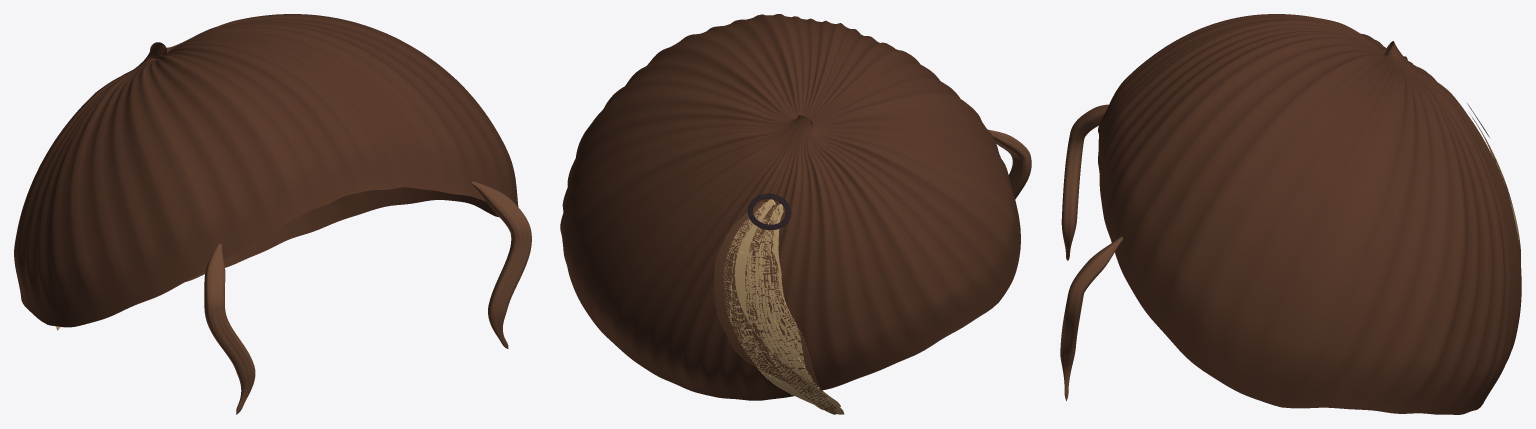
The model's file is Highlights-75b657a3e1ce251-hair.glb.
3 renders of one model, left to right at view 1: azimuth 30°, elevation 25°; view 2: azimuth 150°, elevation 25°; view 3: azimuth 270°, elevation 25°, orthographic. The views are drawn at different scales.
Visible parts, largest first — view 1: 226 hair / Hair / crisp pulled roots220, 226 hair / Hair / sculpted front locks222; view 2: 226 hair / Hair / crisp pulled roots220, 226 hair / Hair / chestnut212 0, 226 hair / Hair / chestnut212 1, 226 hair / Hair / chestnut212 2, 226 hair / Hair / sculpted front locks222, 226 hair / Hair / fitted tie214; view 3: 226 hair / Hair / crisp pulled roots220, 226 hair / Hair / sculpted front locks222.
Boxes of the visible parts, bbox=[...] form: 226 hair / Hair / crisp pulled roots220: bbox=[14, 14, 518, 327]; 226 hair / Hair / sculpted front locks222: bbox=[204, 181, 531, 414]; 226 hair / Hair / crisp pulled roots220: bbox=[560, 14, 1020, 400]; 226 hair / Hair / chestnut212 0: bbox=[713, 201, 835, 414]; 226 hair / Hair / chestnut212 1: bbox=[724, 202, 840, 410]; 226 hair / Hair / chestnut212 2: bbox=[730, 199, 844, 414]; 226 hair / Hair / sculpted front locks222: bbox=[988, 129, 1031, 199]; 226 hair / Hair / fitted tie214: bbox=[747, 193, 791, 230]; 226 hair / Hair / crisp pulled roots220: bbox=[1098, 14, 1521, 414]; 226 hair / Hair / sculpted front locks222: bbox=[1060, 104, 1122, 400].
Bounding box in the file's own units: 0.9675 × 0.6669 × 0.8068.
